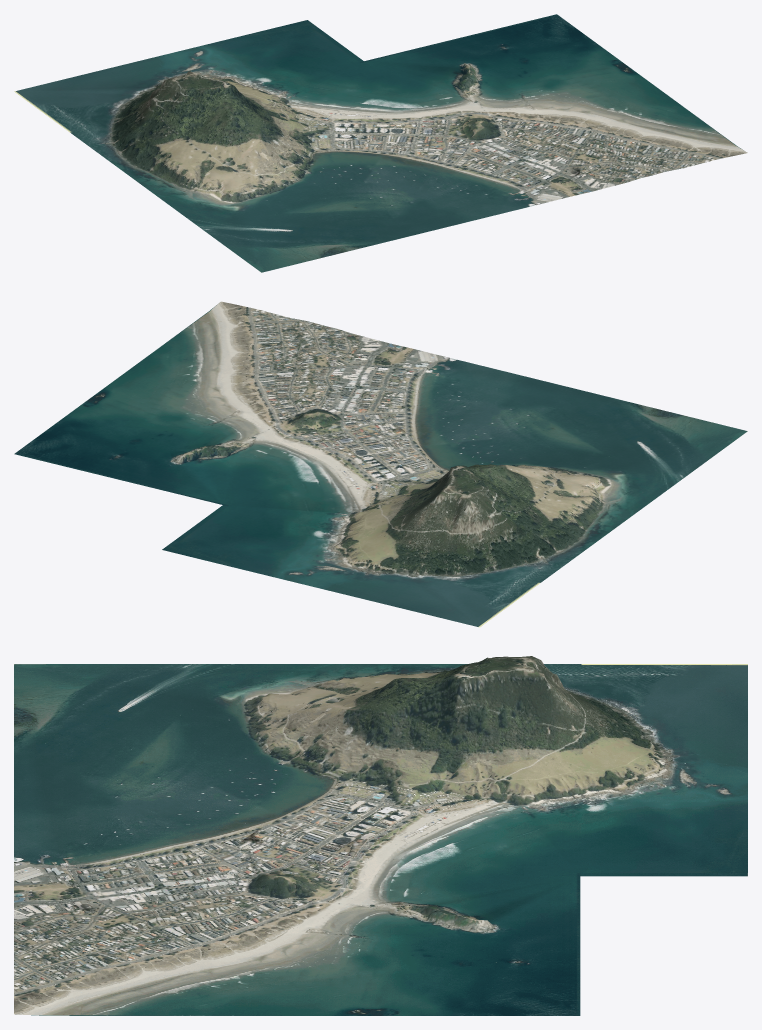
File: MtMaunganuiSmallest.fbx
The picture shows the model from 3 angles, top to bottom: view 1: azimuth 30°, elevation 25°; view 2: azimuth 150°, elevation 25°; view 3: azimuth 270°, elevation 25°; orthographic projection. The views are drawn at different scales.
Parts seen in each view (by area): view 1: TerrainNode; view 2: TerrainNode; view 3: TerrainNode.
Boxes of the visible parts, <box> form: TerrainNode: <box>14,14,747,272</box>; TerrainNode: <box>14,301,747,627</box>; TerrainNode: <box>14,656,747,1015</box>.
Bounding box in the file's own units: 239603 × 23208 × 211210.
